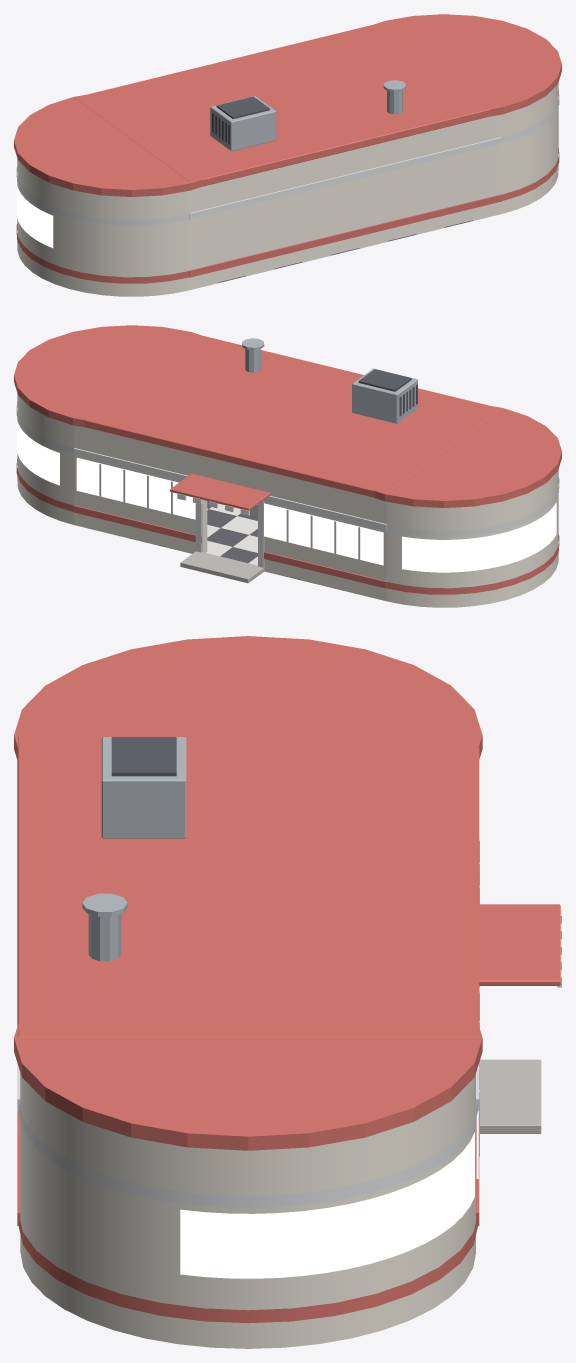
The model's file is diner.glb.
3 views of the same model, one above another, from view 1: azimuth 30°, elevation 25°; view 2: azimuth 150°, elevation 25°; view 3: azimuth 270°, elevation 25° (orthographic). The views are drawn at different scales.
Visible parts, largest first — view 1: dn_shell_mesh, dn_inside_mesh; view 2: dn_shell_mesh, dn_inside_mesh; view 3: dn_shell_mesh.
Boxes of the visible parts, x1=… form: dn_shell_mesh: x1=14, y1=14, x2=561, y2=296; dn_inside_mesh: x1=189, y1=213, x2=501, y2=289; dn_shell_mesh: x1=14, y1=325, x2=561, y2=607; dn_inside_mesh: x1=144, y1=501, x2=335, y2=588; dn_shell_mesh: x1=14, y1=636, x2=561, y2=1348.
Bounding box in the file's own units: 18.2 × 4.71 × 8.42.
